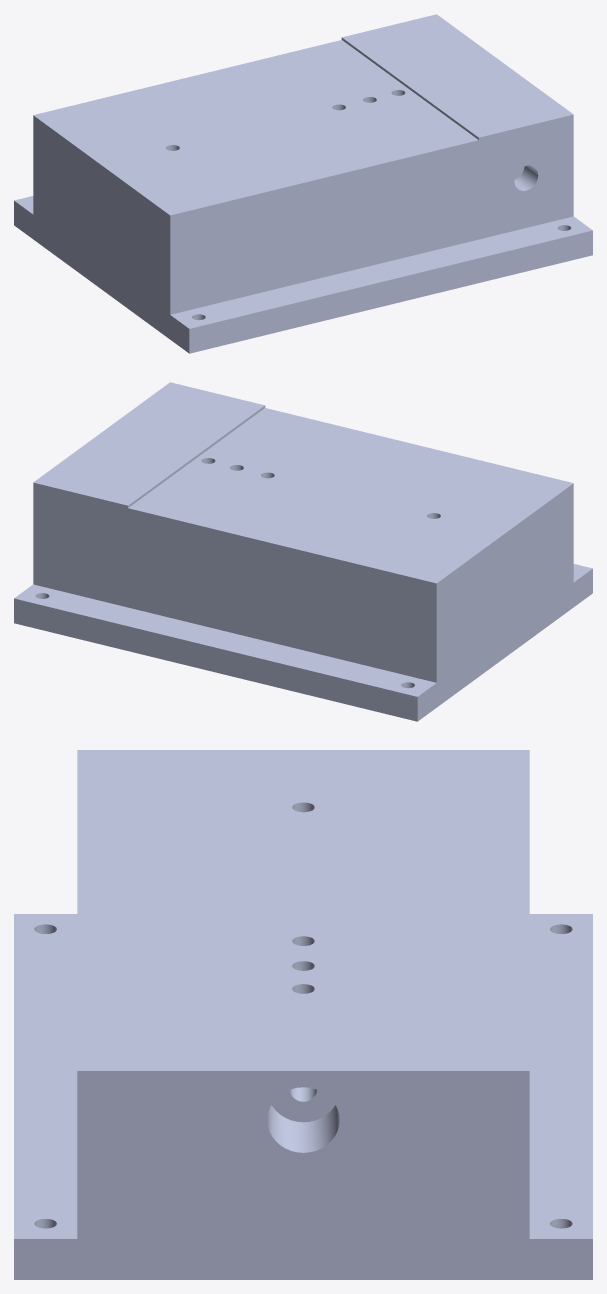
File: chip-vacuum-stage.glb
3 renders of one model, top to bottom at view 1: azimuth 30°, elevation 25°; view 2: azimuth 150°, elevation 25°; view 3: azimuth 270°, elevation 25°, orthographic. The views are drawn at different scales.
Visible parts, largest first — view 1: Vaccum Sample Stage; view 2: Vaccum Sample Stage; view 3: Vaccum Sample Stage.
Boxes of the visible parts, x1,y1,x2,y2 form: Vaccum Sample Stage: (14,14,592,353); Vaccum Sample Stage: (14,382,592,721); Vaccum Sample Stage: (14,750,592,1279).
Bounding box in the file's own units: 0.085 × 0.0255 × 0.064.
